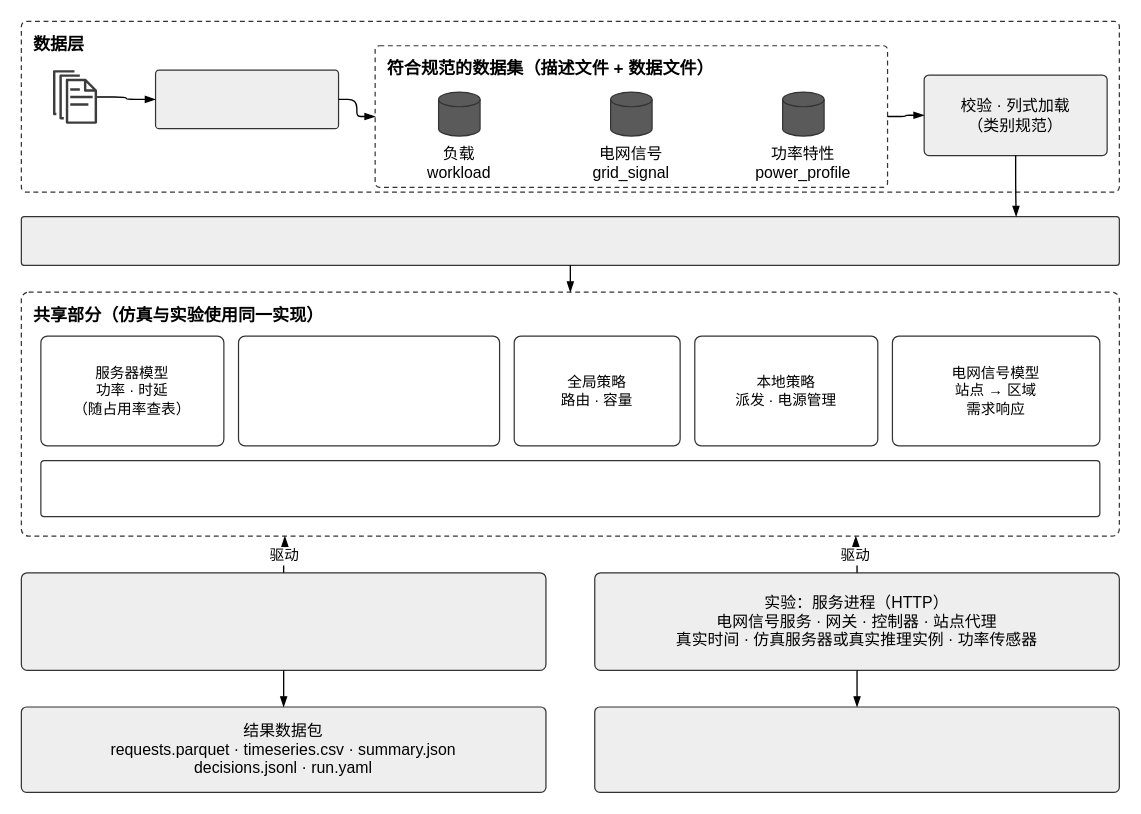
Image size: 1141x814. Some labels were removed from this diagram. The shapes that lost their labels are listed below. From the top down, each one's centre as x and y in pixels, then its label:
the point at 74,96: 原始公开数据
the point at 246,99: 转换（用户完成） examples/datasets/
the point at 569,240: 场景（YAML）：来源区域 · 站点与服务器池 · 服务器类型 · 网络时延 · 电网信号与需求响应 · 负载变换 · 策略
the point at 368,390: 数据中心运行时 服务器状态机 · 排队与派发 容量指令执行 · 能耗计量
the point at 570,488: 指标定义与核算：设施电量 = IT 电量 × PUE；成本、碳排放按信号可用的时间片核算；SLO（TTFT、TPOT）
the point at 283,621: 仿真：离散事件仿真器 仿真时钟 · 事件队列 · 按服务器模型计时 全部服务器按模型仿真
the point at 856,749: 结果数据包（cpc live） 回放负载并采样，格式与仿真相同 另有 Prometheus 指标 · 请求日志 · 决策日志
